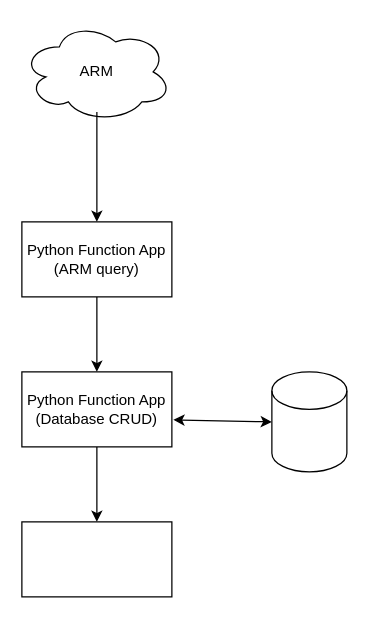
The diagram is 369 pixels wide and 619 high, and some of its shapes have lost their labels. Each missing label, with the centre of its shape:
Cosmos DB: (309,421)
Visualisation: (96,559)
